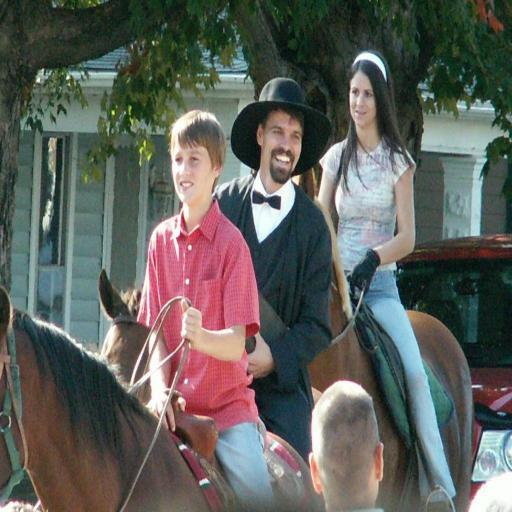horse: (0, 286, 324, 512), (292, 166, 474, 512), (97, 263, 322, 408)
